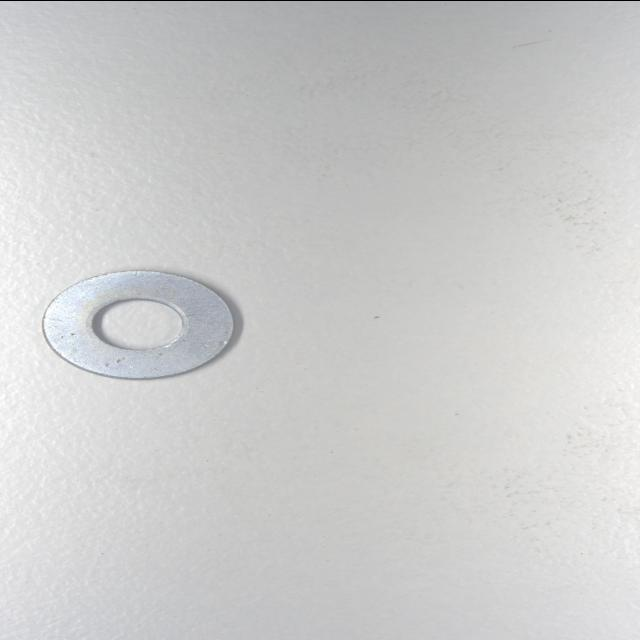washer: (40, 266, 240, 381)
